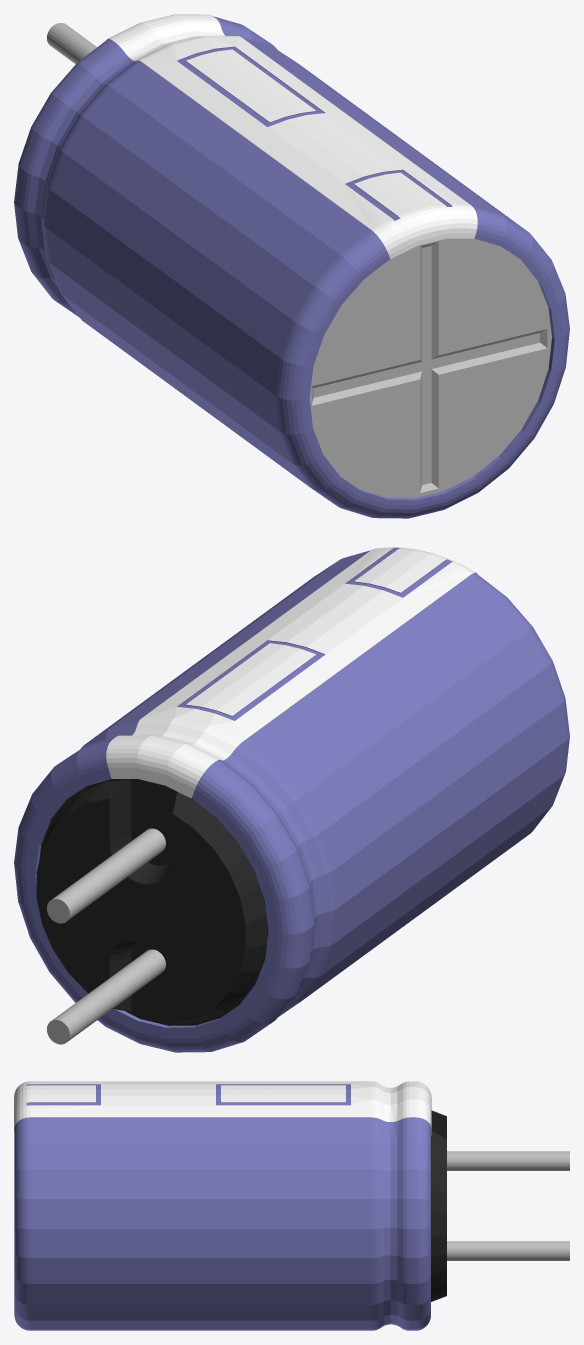
Rendered from cap_el_d6.3_h11_pitch2.5_w0.5.obj.
3 views of the same model, one above another, from view 1: azimuth 30°, elevation 25°; view 2: azimuth 150°, elevation 25°; view 3: azimuth 270°, elevation 25° (orthographic). The views are drawn at different scales.
Visible parts, largest first — view 1: cap_el_d6.3_h11_pitch2.5_w0.5; view 2: cap_el_d6.3_h11_pitch2.5_w0.5; view 3: cap_el_d6.3_h11_pitch2.5_w0.5.
Boxes of the visible parts, box(x1,y1,x2,y2) form: cap_el_d6.3_h11_pitch2.5_w0.5: box(14, 14, 569, 518); cap_el_d6.3_h11_pitch2.5_w0.5: box(14, 547, 569, 1052); cap_el_d6.3_h11_pitch2.5_w0.5: box(14, 1081, 569, 1330).
Bounding box in the file's own units: 0.00472 × 0.00471 × 0.0105.
